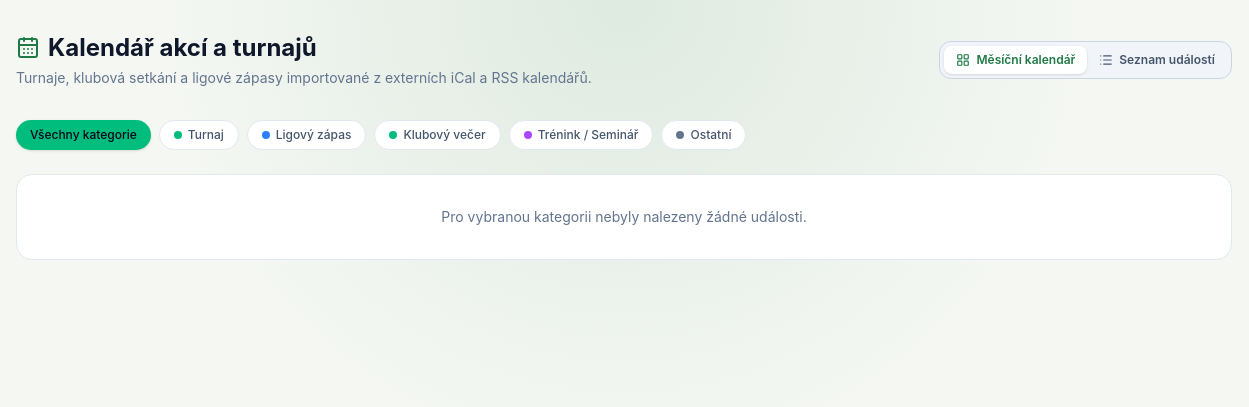
CalendarView › narrows displayed events using the category filter
The width and height of the screenshot is (1249, 407).
What coordinates should you click on to do the following:
click the button "Seznam událostí"
I would click on:
 (1157, 60)
Its box is [1087,46,1227,74].
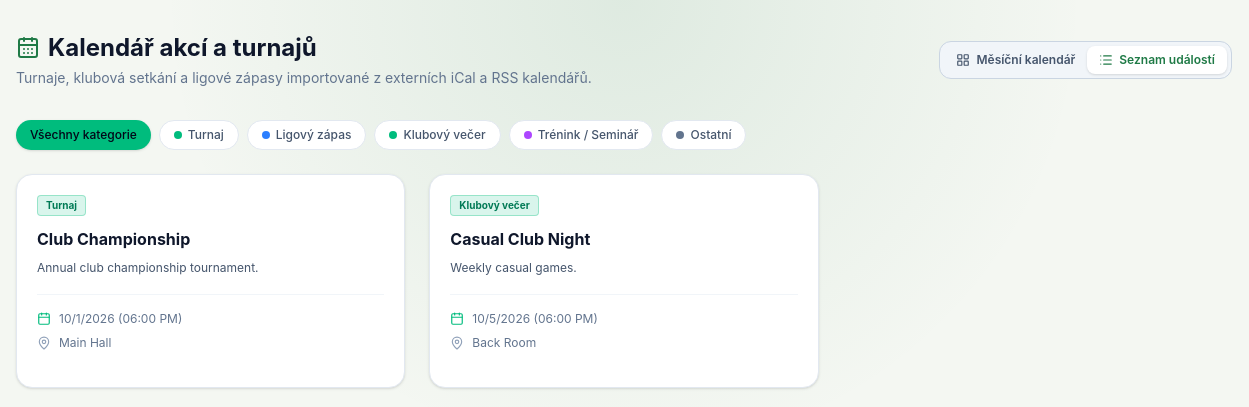
Expected: the heading "Club Championship" is shown, [37,229,190,249]
What coordinates should you click on to do the following:
click the button "Klubový večer"
I would click on:
 (438, 135)
Its box is [374,120,501,150].
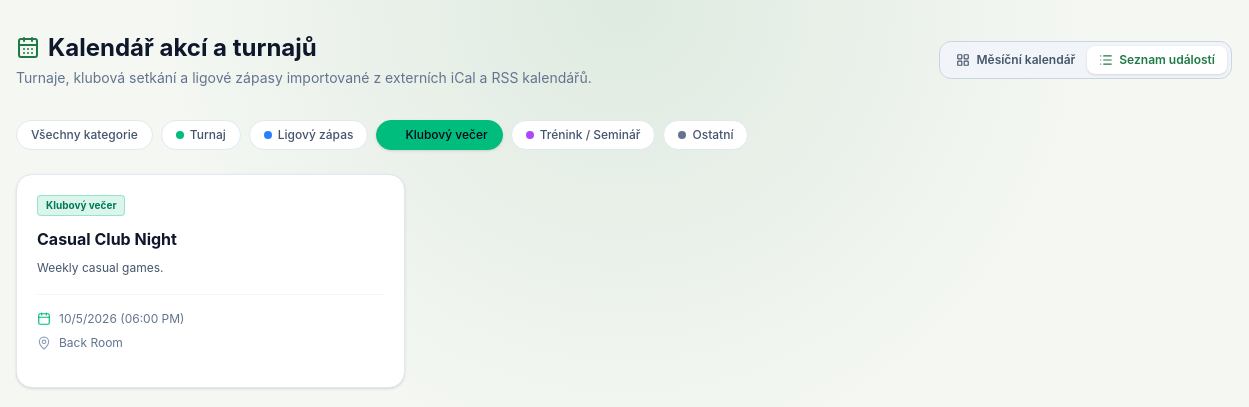
Expected: the heading "Casual Club Night" is shown, [37,229,177,249]
Expected: the heading "Club Championship" is gone
